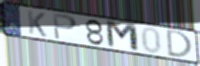0: (140, 27, 164, 55)
8: (84, 19, 105, 46)
D: (166, 29, 194, 59)
K: (25, 9, 48, 39)
M: (105, 19, 142, 54)
P: (52, 12, 79, 41)
